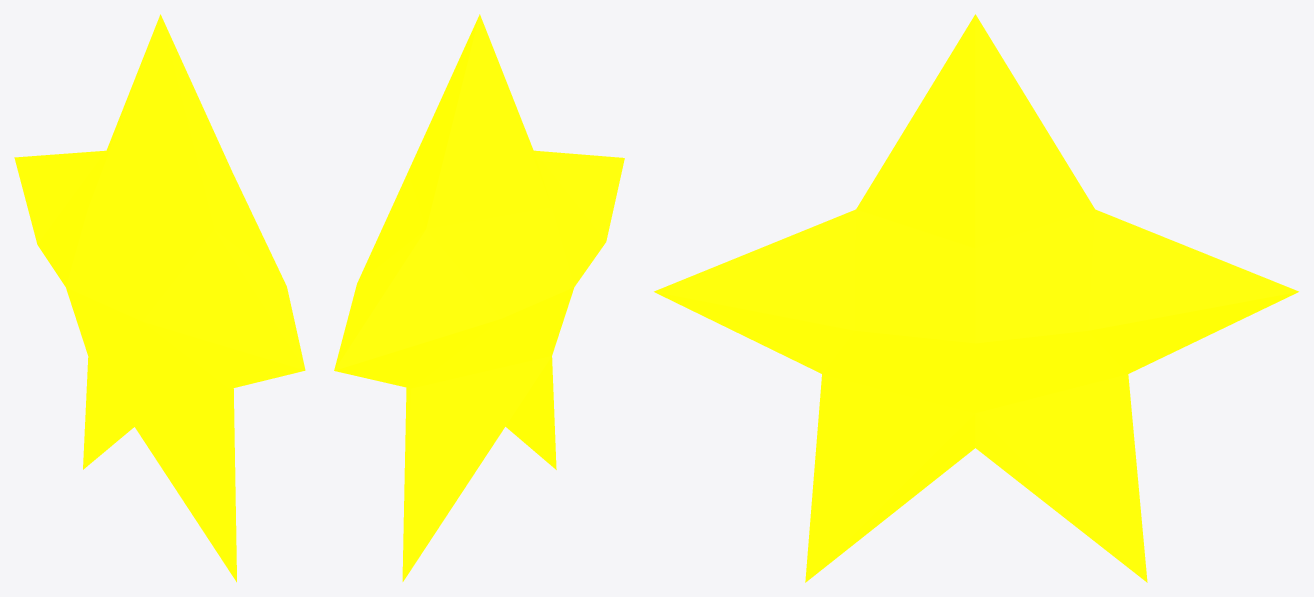
File: normal_star_28.glb
3 renders of one model, left to right at view 1: azimuth 30°, elevation 25°; view 2: azimuth 150°, elevation 25°; view 3: azimuth 270°, elevation 25°, orthographic. The views are drawn at different scales.
Visible parts, largest first — view 1: normal_star_28; view 2: normal_star_28; view 3: normal_star_28.
Part boxes in pixels (<box>): normal_star_28: <box>14,14,305,582</box>; normal_star_28: <box>334,14,624,581</box>; normal_star_28: <box>654,14,1298,582</box>.
Bounding box in the file's own units: 1.43 × 3.68 × 3.79.
